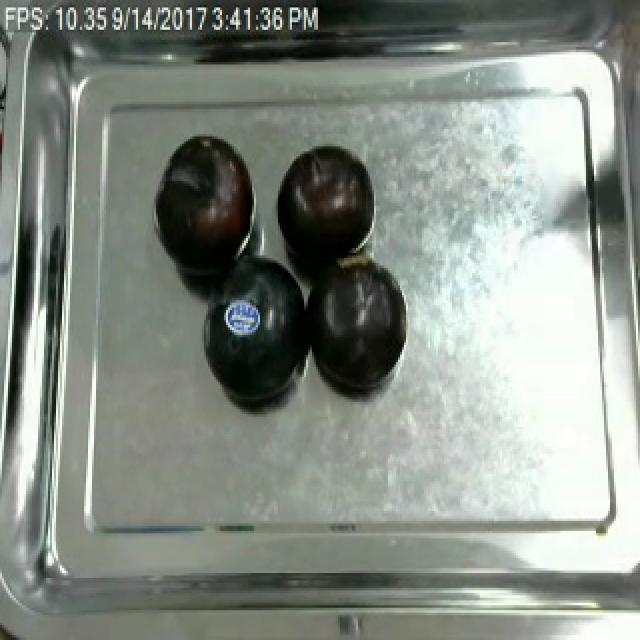Fruit: (196, 243, 318, 412), (148, 129, 262, 280), (306, 245, 408, 397), (270, 142, 378, 270)
